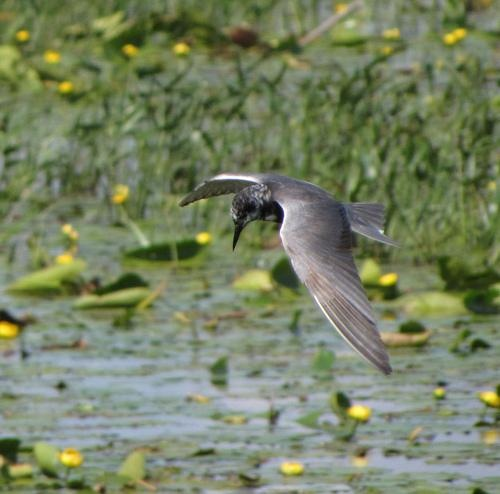bird: (175, 165, 402, 377)
